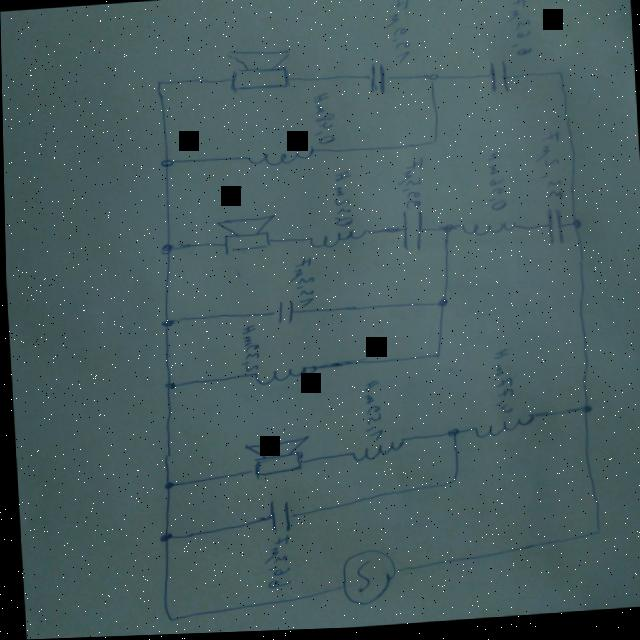capacitor: (398, 211, 423, 257), (264, 500, 288, 537), (486, 62, 509, 100), (543, 211, 563, 250), (365, 63, 386, 99), (274, 300, 291, 328)
inductor: (238, 147, 315, 171), (469, 415, 534, 443), (249, 367, 318, 389), (303, 230, 368, 252), (345, 441, 404, 465), (457, 221, 516, 241)
junction: (153, 240, 175, 259), (418, 71, 441, 89), (441, 427, 461, 443), (432, 297, 449, 315), (154, 316, 173, 332), (151, 530, 171, 545), (435, 225, 456, 239), (157, 379, 175, 395), (156, 155, 172, 171), (422, 351, 440, 365), (564, 221, 582, 235), (574, 406, 591, 420), (150, 76, 167, 90), (549, 70, 565, 83), (442, 477, 456, 490), (423, 138, 438, 150), (158, 481, 172, 493), (160, 616, 176, 626), (588, 532, 603, 542)
source: (335, 551, 394, 611)
text: (380, 0, 413, 67), (533, 134, 562, 205), (502, 0, 533, 62), (258, 535, 289, 590), (307, 94, 336, 150), (283, 259, 314, 310), (489, 351, 512, 418), (396, 160, 425, 212), (358, 381, 381, 445), (327, 173, 352, 231), (483, 153, 506, 216), (236, 326, 259, 375)
